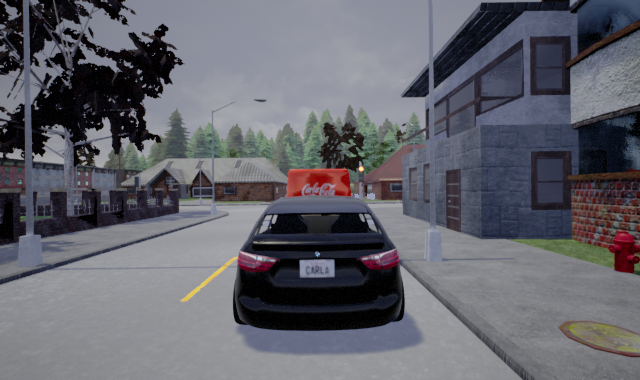vehicle: (231, 197, 404, 330), (279, 167, 358, 241)
